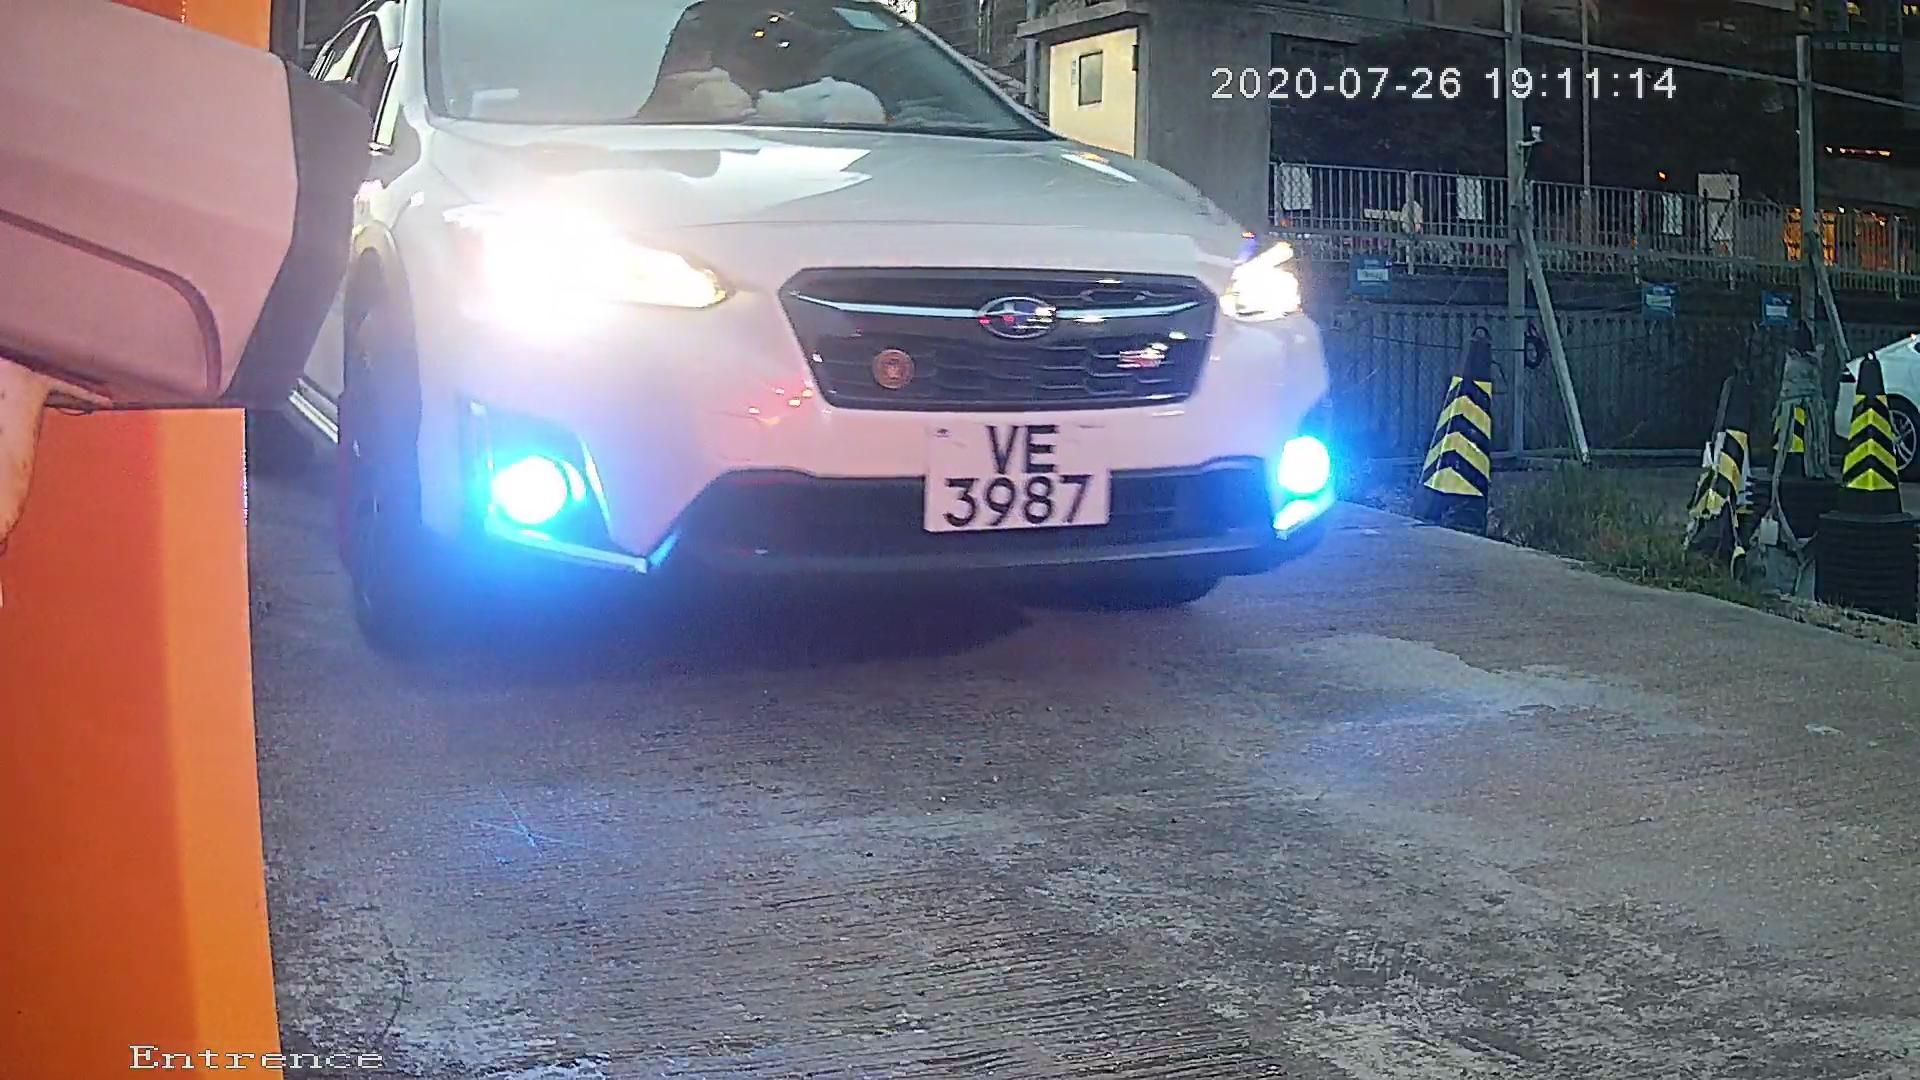License Plate: (901, 401, 1106, 541)
